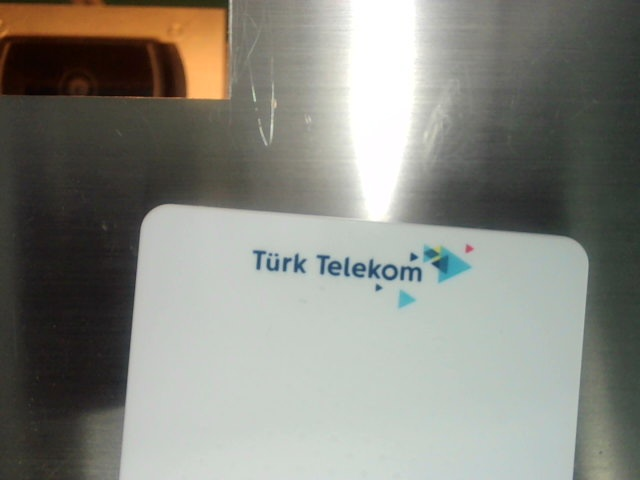AQ_TURKTelekom: (252, 221, 495, 314)
